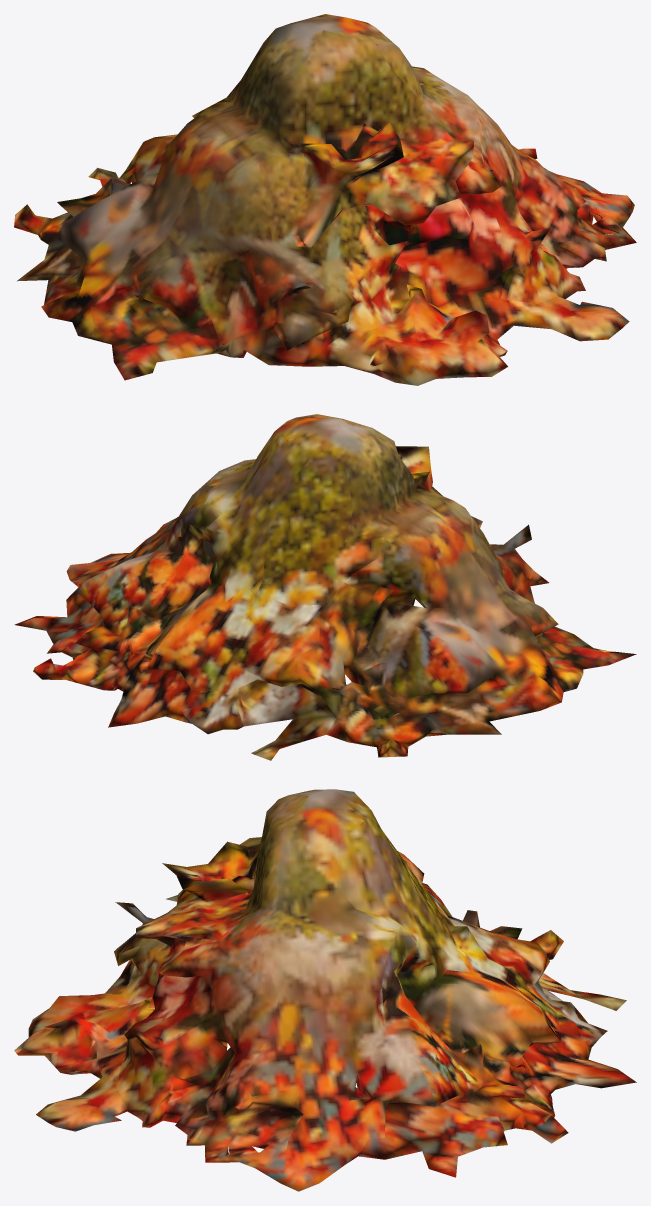
The model's file is FallDecor_FirstRoom_LeafMound.fbx.
The picture shows the model from 3 angles, top to bottom: view 1: azimuth 30°, elevation 25°; view 2: azimuth 150°, elevation 25°; view 3: azimuth 270°, elevation 25°; orthographic projection. The views are drawn at different scales.
Parts seen in each view (by area): view 1: FallDecor_FirstRoom_LeafMound_Mesh; view 2: FallDecor_FirstRoom_LeafMound_Mesh; view 3: FallDecor_FirstRoom_LeafMound_Mesh.
Boxes of the visible parts, x1=… form: FallDecor_FirstRoom_LeafMound_Mesh: x1=14, y1=14, x2=636, y2=385; FallDecor_FirstRoom_LeafMound_Mesh: x1=14, y1=414, x2=636, y2=760; FallDecor_FirstRoom_LeafMound_Mesh: x1=14, y1=789, x2=636, y2=1191.
Bounding box in the file's own units: 6 × 2.53 × 5.69.
1 material, 1 textured.
